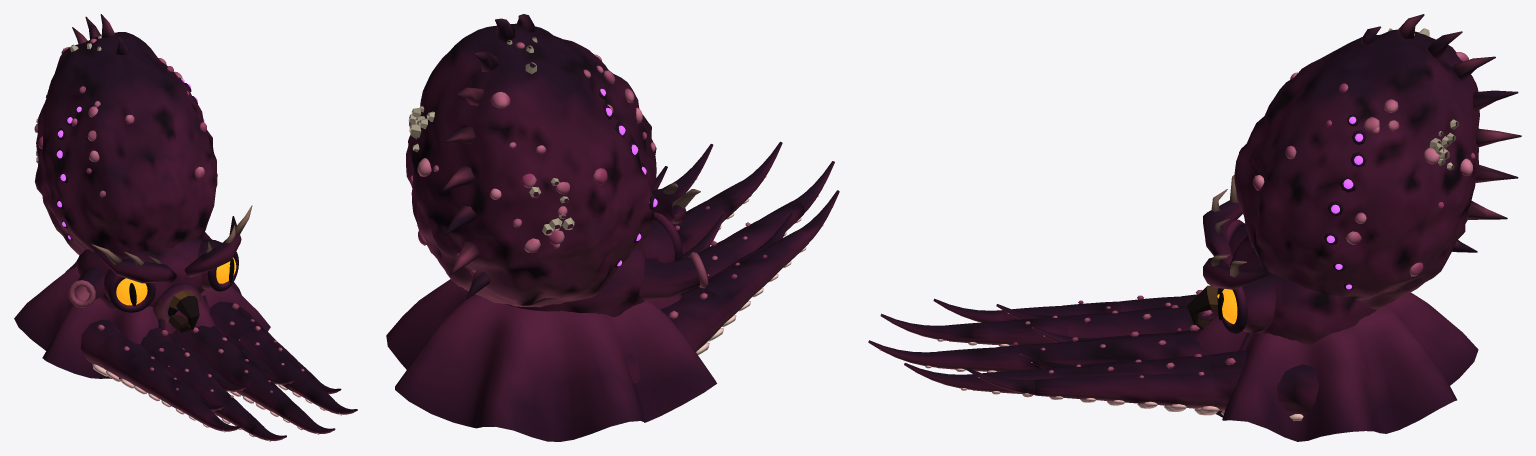
Rendered from kraken.glb.
The picture shows the model from 3 angles, left to right: view 1: azimuth 30°, elevation 25°; view 2: azimuth 150°, elevation 25°; view 3: azimuth 270°, elevation 25°; orthographic projection. The views are drawn at different scales.
Visible parts, largest first — view 1: m_trup_kuza, m_trup_zobak, m_chapadlo_6_1_kuza, m_chapadlo_6_2_kuza, m_chapadlo_0_1_kuza, m_trup_svetla, m_chapadlo_0_2_kuza, m_chapadlo_6_0_kuza, m_trup_oko, m_chapadlo_0_3_kuza, m_chapadlo_6_3_kuza, m_chapadlo_7_1_kuza (+12 smaller); view 2: m_trup_kuza, m_trup_svetla, m_chapadlo_6_1_kuza, m_trup_zobak, m_chapadlo_6_2_kuza, m_chapadlo_6_3_kuza, m_chapadlo_0_3_kuza, m_chapadlo_7_2_kuza, m_chapadlo_7_3_kuza, m_chapadlo_0_4_kuza, m_chapadlo_6_4_kuza, m_chapadlo_7_4_kuza (+5 smaller); view 3: m_trup_kuza, m_trup_zobak, m_chapadlo_2_2_kuza, m_trup_svetla, m_chapadlo_2_0_kuza, m_chapadlo_2_3_kuza, m_chapadlo_0_1_kuza, m_chapadlo_7_1_kuza, m_chapadlo_0_2_kuza, m_chapadlo_7_2_kuza, m_chapadlo_7_3_kuza, m_chapadlo_0_3_kuza (+17 smaller).
Part boxes in pixels (x1,y1,x2,y2): m_trup_kuza: [14, 14, 270, 379]; m_trup_zobak: [36, 35, 252, 330]; m_chapadlo_6_1_kuza: [97, 332, 150, 381]; m_chapadlo_6_2_kuza: [125, 354, 172, 396]; m_chapadlo_0_1_kuza: [194, 335, 249, 372]; m_trup_svetla: [34, 38, 206, 197]; m_chapadlo_0_2_kuza: [220, 356, 270, 398]; m_chapadlo_6_0_kuza: [80, 319, 120, 367]; m_trup_oko: [116, 257, 236, 305]; m_chapadlo_0_3_kuza: [247, 377, 290, 415]; m_chapadlo_6_3_kuza: [152, 374, 195, 412]; m_chapadlo_7_1_kuza: [149, 342, 201, 373]; m_trup_kuza: [386, 14, 716, 441]; m_trup_svetla: [409, 42, 655, 275]; m_chapadlo_6_1_kuza: [668, 288, 726, 351]; m_trup_zobak: [408, 37, 700, 235]; m_chapadlo_6_2_kuza: [694, 269, 753, 323]; m_chapadlo_6_3_kuza: [729, 249, 781, 296]; m_chapadlo_0_3_kuza: [682, 201, 724, 244]; m_chapadlo_7_2_kuza: [697, 240, 747, 272]; m_chapadlo_7_3_kuza: [724, 220, 775, 253]; m_chapadlo_0_4_kuza: [706, 181, 752, 221]; m_chapadlo_6_4_kuza: [763, 230, 809, 269]; m_chapadlo_7_4_kuza: [759, 201, 804, 231]; m_trup_kuza: [1194, 14, 1521, 441]; m_trup_zobak: [1187, 28, 1459, 324]; m_chapadlo_2_2_kuza: [1154, 372, 1217, 408]; m_trup_svetla: [1253, 52, 1475, 276]; m_chapadlo_2_0_kuza: [1276, 364, 1319, 414]; m_chapadlo_2_3_kuza: [1095, 374, 1154, 403]; m_chapadlo_0_1_kuza: [1116, 332, 1175, 361]; m_chapadlo_7_1_kuza: [1128, 306, 1187, 335]; m_chapadlo_0_2_kuza: [1056, 338, 1115, 364]; m_chapadlo_7_2_kuza: [1068, 311, 1127, 338]; m_chapadlo_7_3_kuza: [1008, 316, 1068, 345]; m_chapadlo_0_3_kuza: [996, 343, 1056, 371].
Size of the model in its own units: 2.65 by 3.5 by 5.48.
